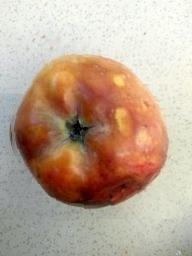Apple Semirotten: (7, 39, 174, 219)
